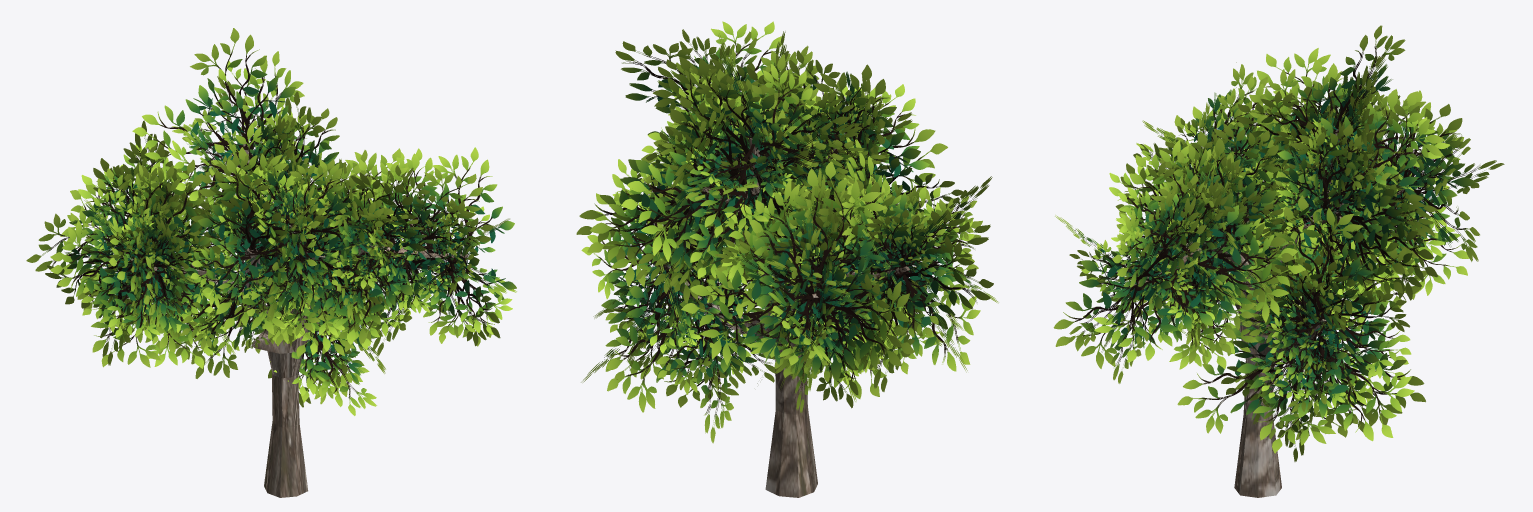
Rendered from tree03.fbx.
The picture shows the model from 3 angles, left to right: view 1: azimuth 30°, elevation 25°; view 2: azimuth 150°, elevation 25°; view 3: azimuth 270°, elevation 25°; orthographic projection. The views are drawn at different scales.
Parts seen in each view (by area): view 1: tree3; view 2: tree3; view 3: tree3.
Boxes of the visible parts, x1=… form: tree3: x1=26, y1=28, x2=516, y2=497; tree3: x1=576, y1=21, x2=998, y2=497; tree3: x1=1053, y1=25, x2=1504, y2=497.
Size of the model in its own units: 515 by 526 by 478.
Materials: 2 (2 with a texture image).
